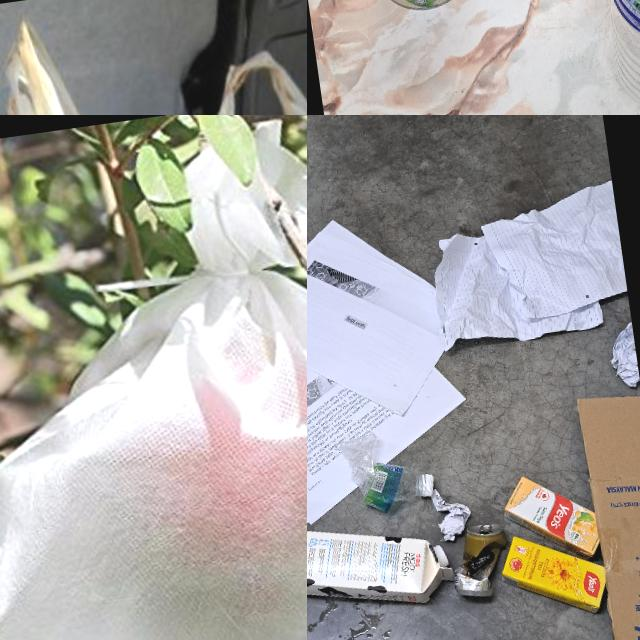aba de lata: (307, 203, 480, 539), (426, 182, 632, 350), (606, 318, 640, 392), (478, 524, 494, 533)
caixinha: (307, 507, 457, 623), (498, 524, 610, 622), (501, 466, 601, 566)
garrafa plástica: (338, 426, 438, 514)
lata: (450, 522, 512, 600)
papel: (434, 484, 474, 542)
papelão: (577, 386, 640, 640), (577, 389, 640, 640)
sacola plástica: (0, 115, 307, 640), (0, 13, 219, 115), (119, 20, 307, 115)
tampa plástica: (432, 543, 449, 569), (421, 472, 436, 498)
